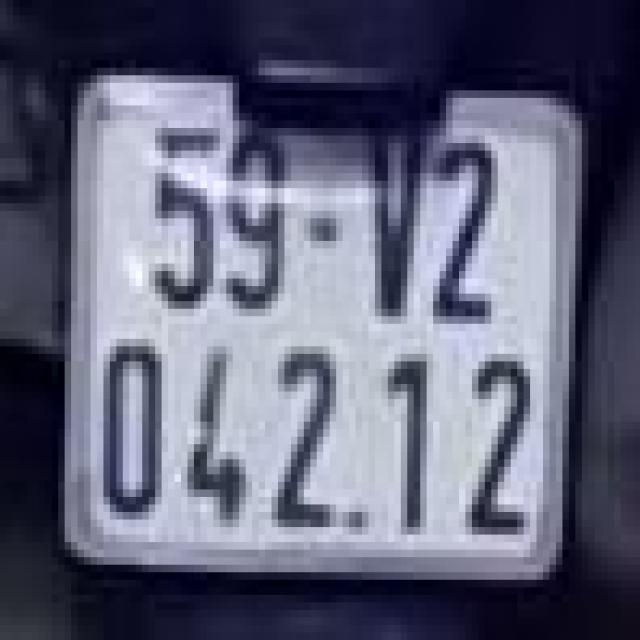0: (90, 316, 162, 535)
1: (375, 350, 433, 538)
2: (426, 132, 524, 335), (462, 346, 540, 542), (268, 335, 339, 538)
4: (171, 331, 249, 535)
5: (148, 116, 220, 312)
9: (223, 117, 294, 320)
V: (352, 116, 437, 328)
